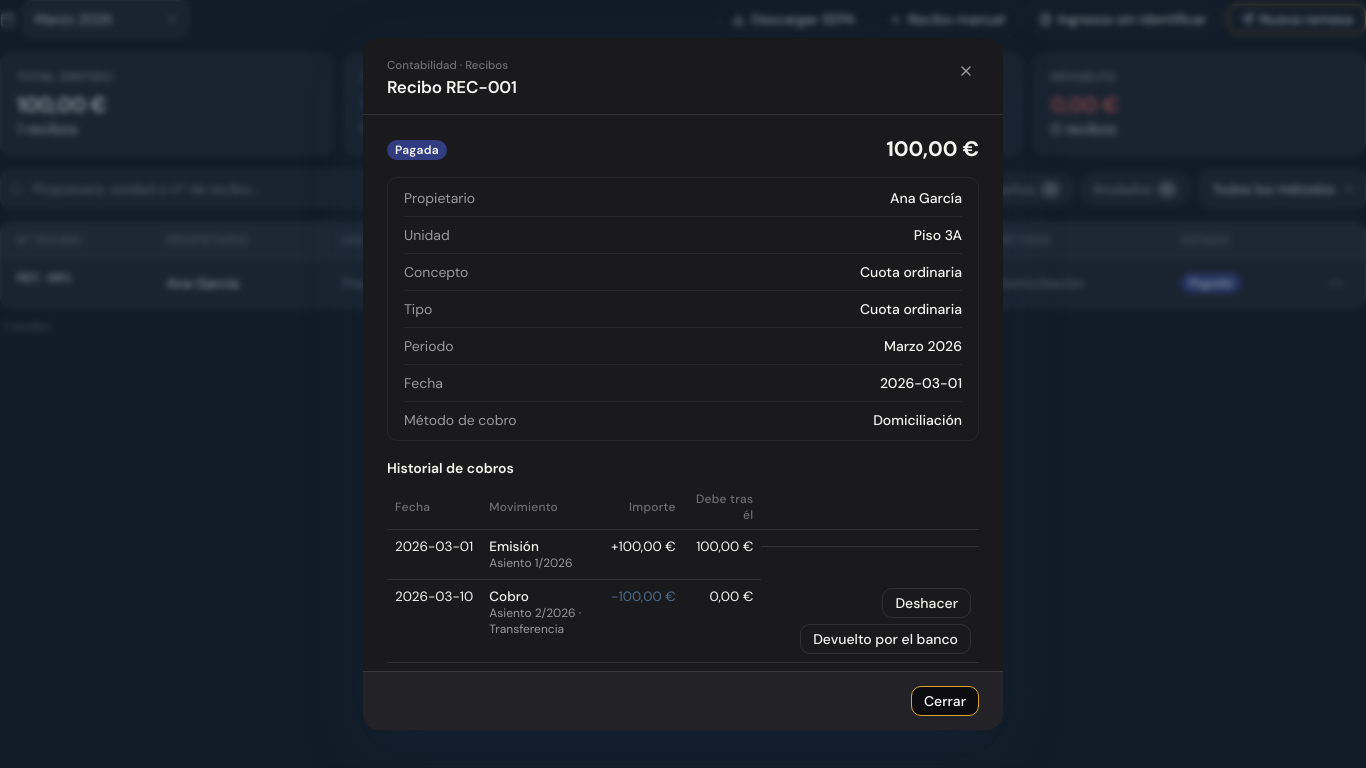
RecibosTabComponent › cobros contabilizados › el detalle muestra el historial y deshacer un cobro pide motivo
Click the button "Deshacer": point(927, 603) [882,588,971,618]
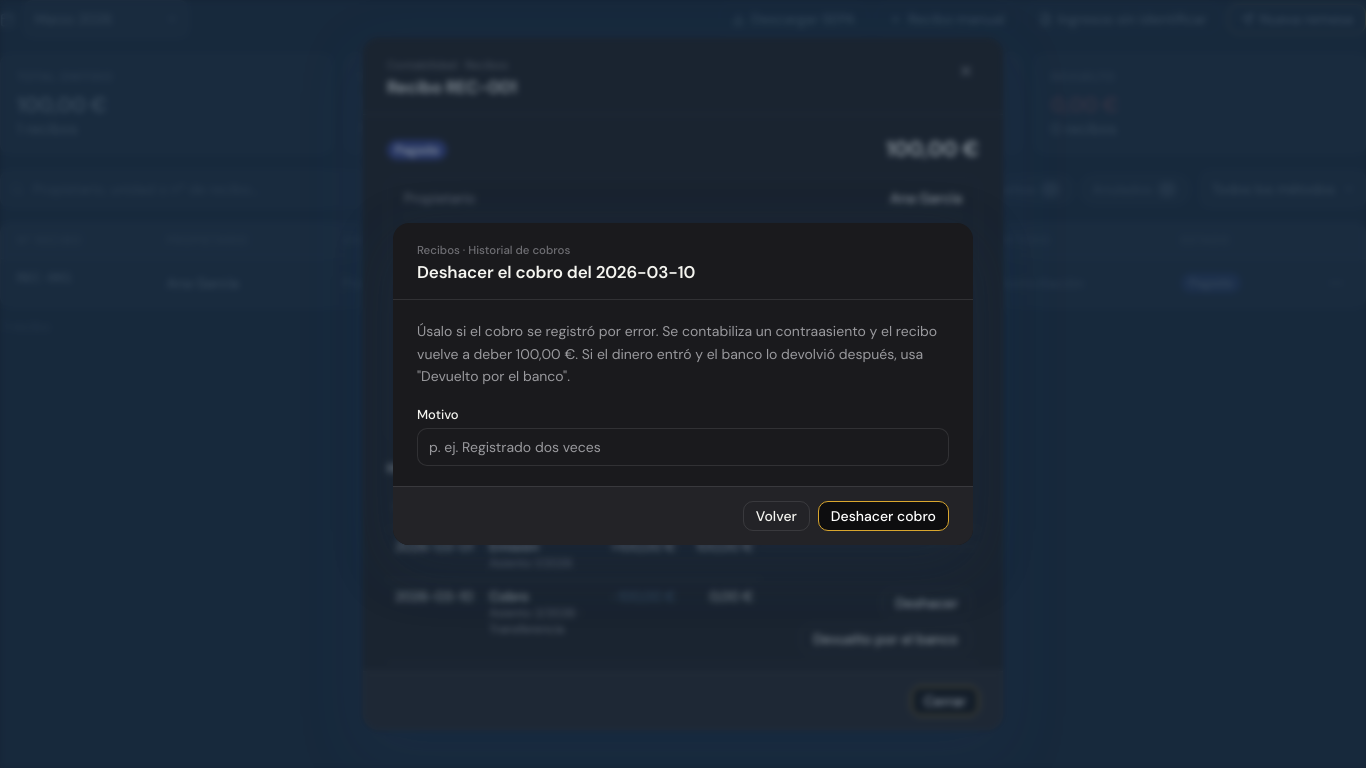
Click the button "Deshacer cobro": point(883, 516) [818,501,949,531]
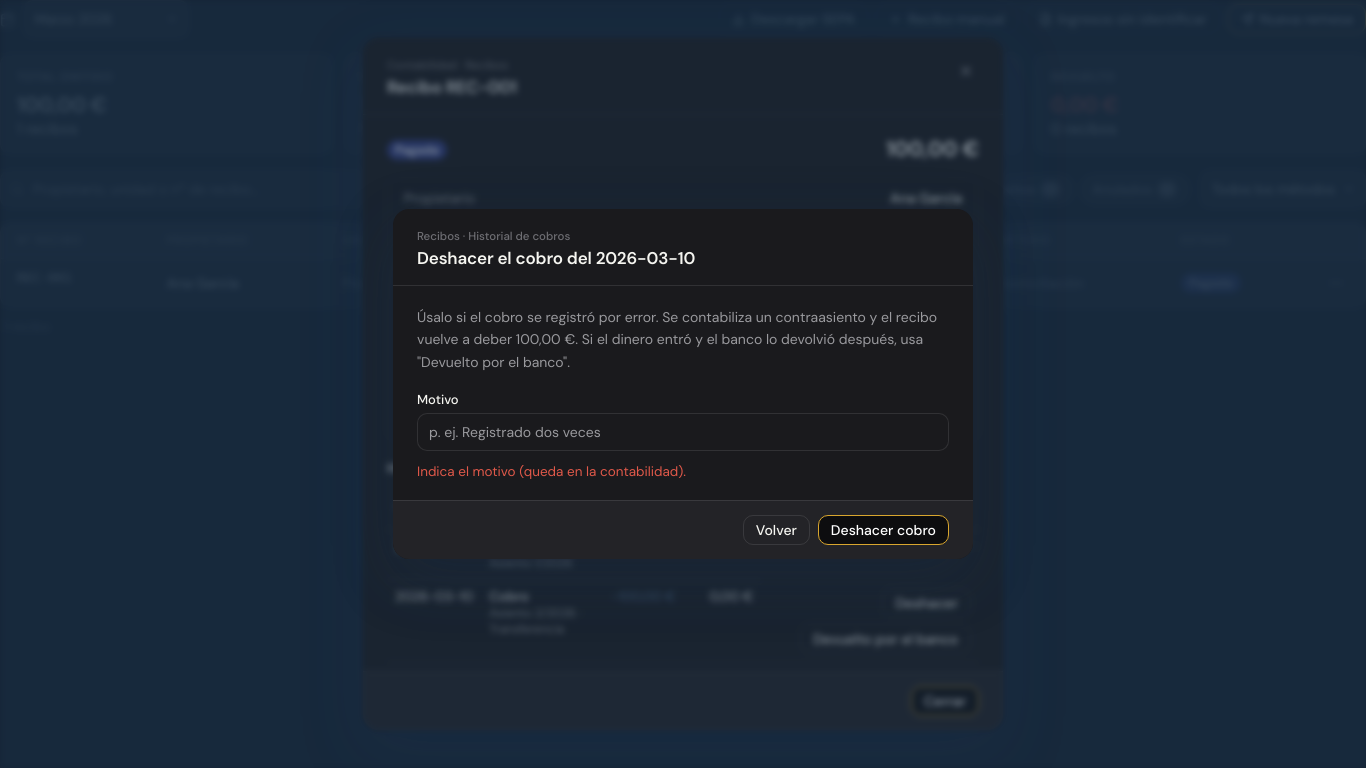
Expected: the text "Indica el motivo" is shown, [417,463,686,480]
In the field with id "undo-reason": point(683, 432) [417,413,949,451], type "Registrado dos veces"
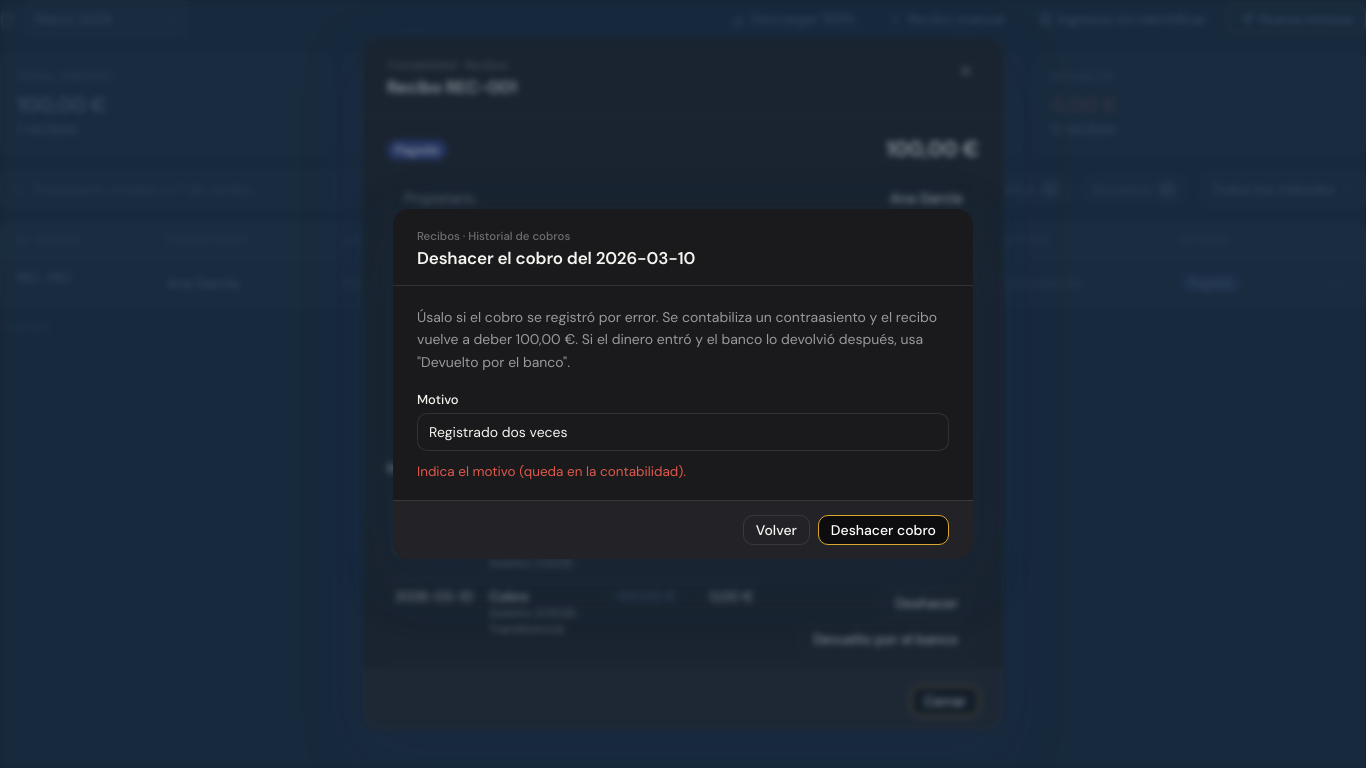
Click the button "Deshacer cobro": point(883, 530) [818,515,949,545]
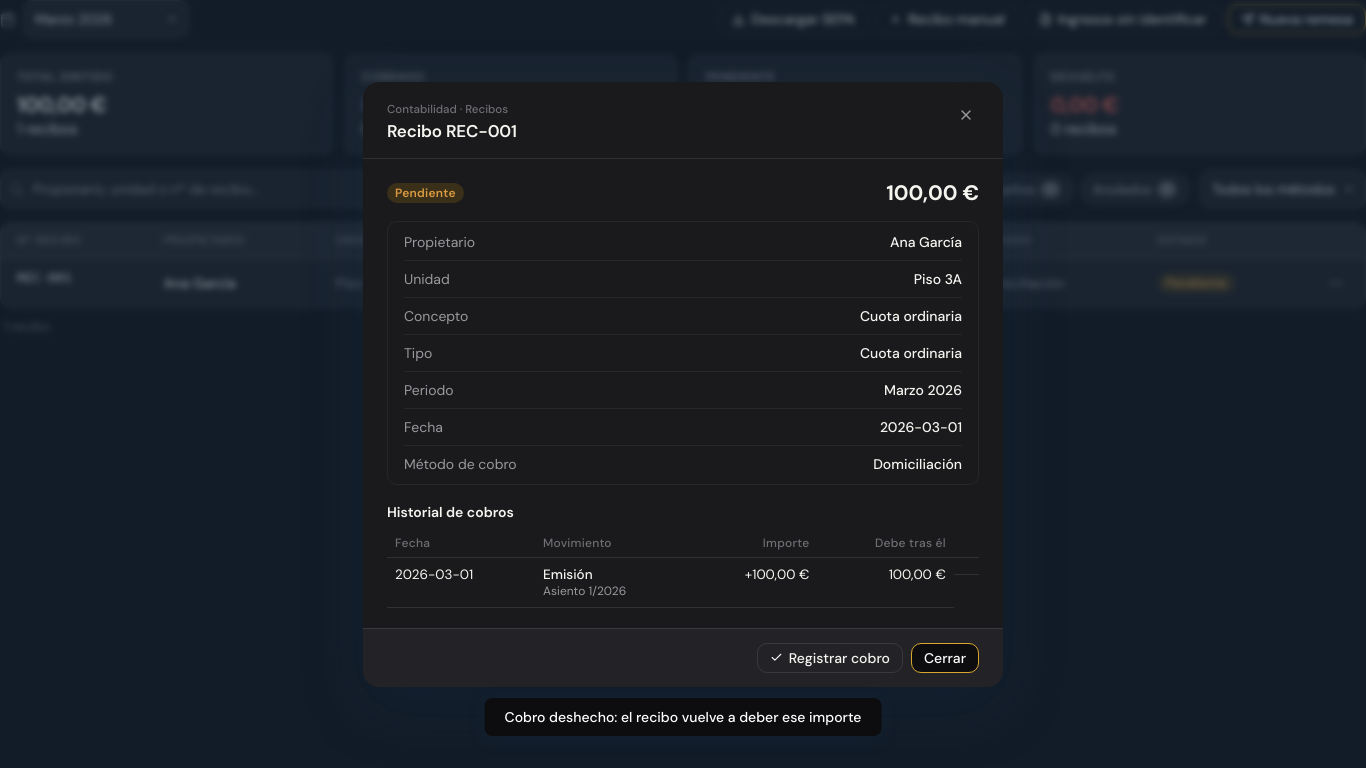
Expected: the text "Cobro deshecho" is shown, [504,708,862,726]
